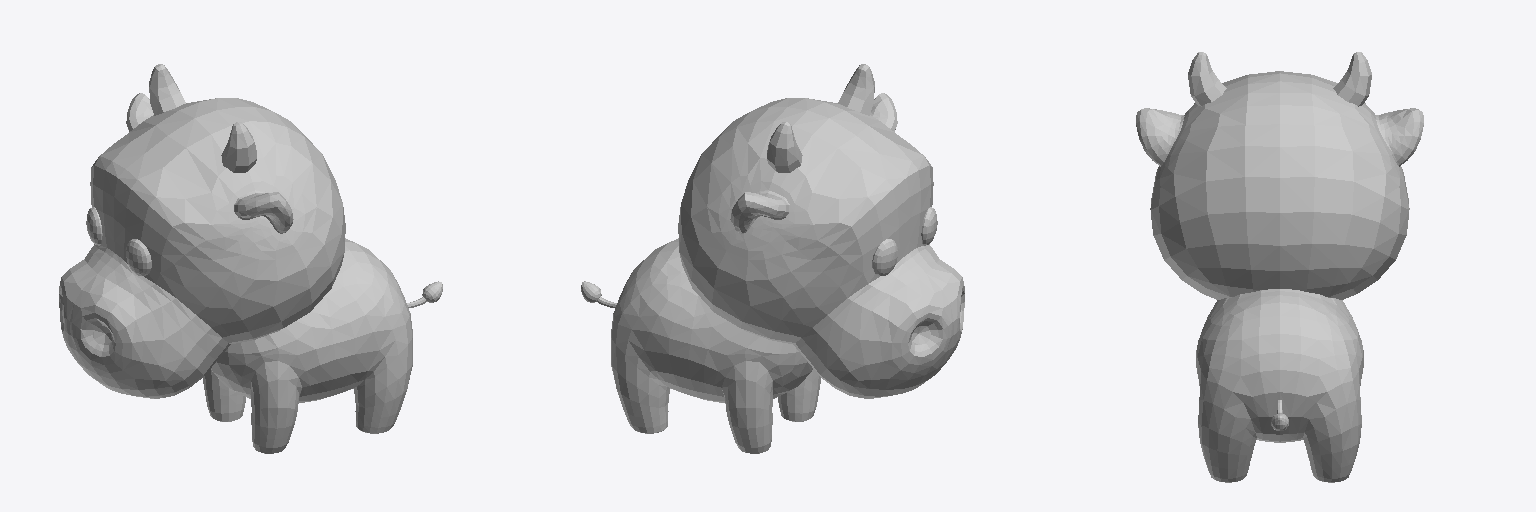
Rendered from vaquinha.obj.
3 views of the same model, side by side, from view 1: azimuth 30°, elevation 25°; view 2: azimuth 150°, elevation 25°; view 3: azimuth 270°, elevation 25° (orthographic).
Visible parts, largest first — view 1: Object_TexMap_0; view 2: Object_TexMap_0; view 3: Object_TexMap_0.
Part boxes in pixels (bbox=[...]): Object_TexMap_0: bbox=[59, 64, 442, 453]; Object_TexMap_0: bbox=[581, 64, 964, 453]; Object_TexMap_0: bbox=[1136, 52, 1423, 482].
Size of the model in its own units: 2.5 by 2.26 by 1.68.